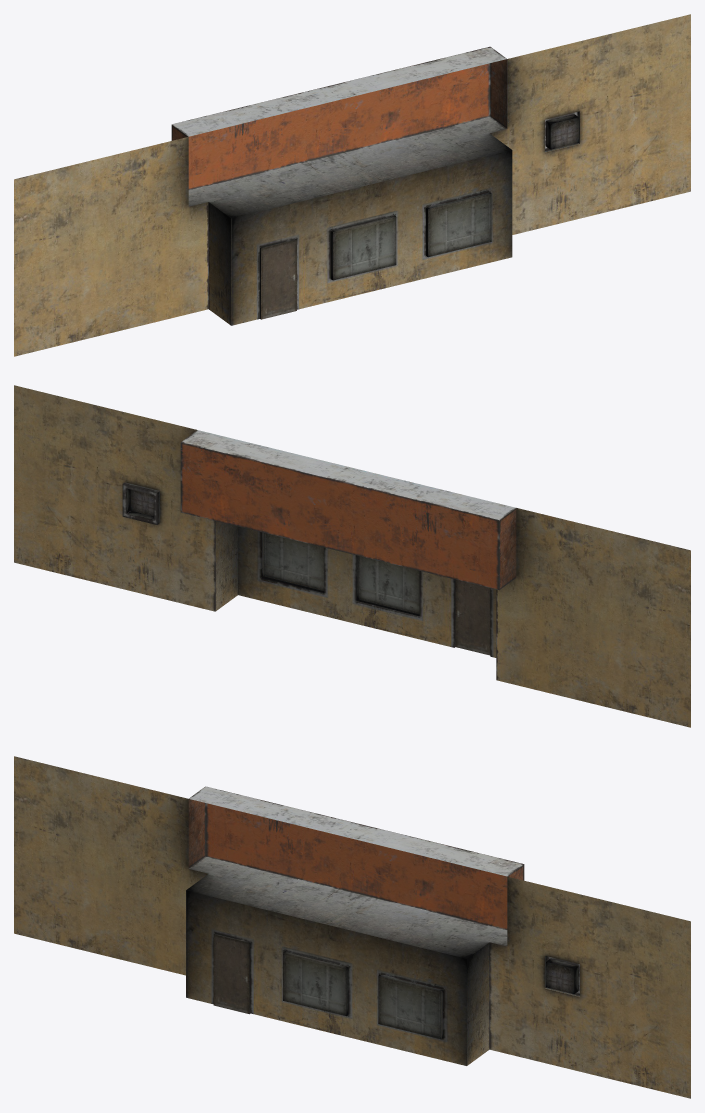
File: TopWall_T02.FBX
The picture shows the model from 3 angles, top to bottom: view 1: azimuth 30°, elevation 25°; view 2: azimuth 150°, elevation 25°; view 3: azimuth 330°, elevation 25°; orthographic projection.
Parts seen in each view (by area): view 1: TopWall_T02; view 2: TopWall_T02; view 3: TopWall_T02.
Part boxes in pixels (left/top/right/bottom): TopWall_T02: left=14, top=14, right=690, bottom=356; TopWall_T02: left=14, top=385, right=690, bottom=727; TopWall_T02: left=14, top=756, right=690, bottom=1098.
Size of the model in its own units: 2586 by 647 by 278.
